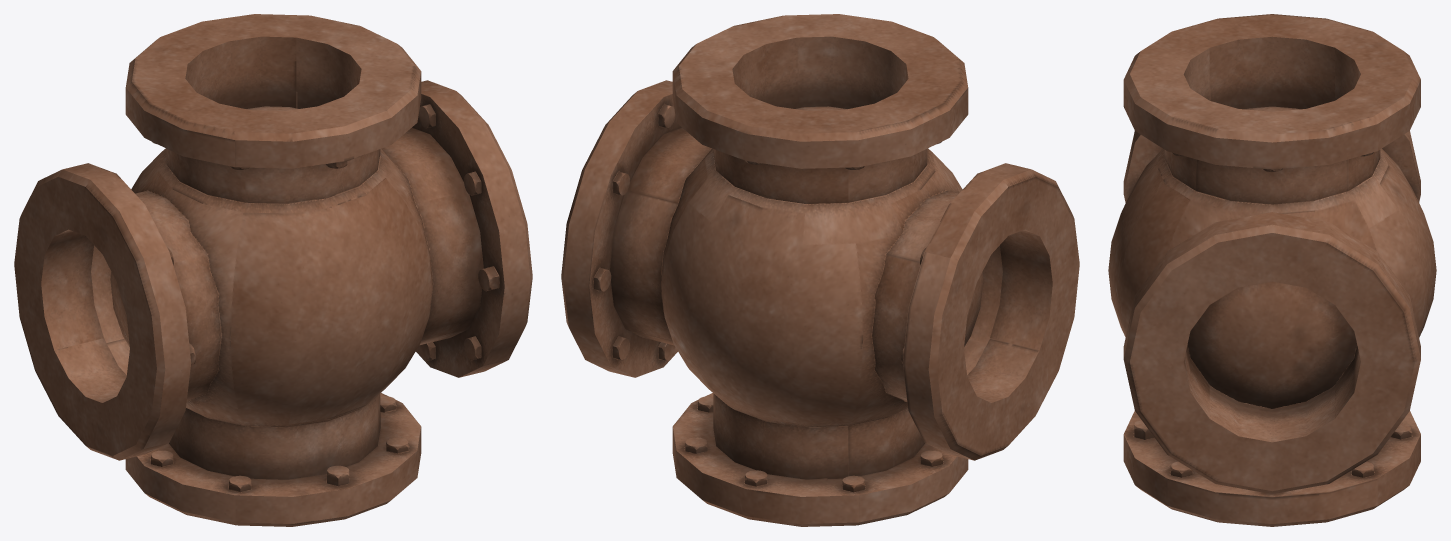
Rendered from _Xpipe.fbx.
3 renders of one model, left to right at view 1: azimuth 30°, elevation 25°; view 2: azimuth 150°, elevation 25°; view 3: azimuth 270°, elevation 25°, orthographic.
Parts seen in each view (by area): view 1: Xpipe.001; view 2: Xpipe.001; view 3: Xpipe.001.
Part boxes in pixels (x1,y1,x2,y2): Xpipe.001: (14,14,532,526); Xpipe.001: (561,14,1079,526); Xpipe.001: (1108,14,1436,526).
Bounding box in the file's own units: 10050 × 10050 × 7618.
